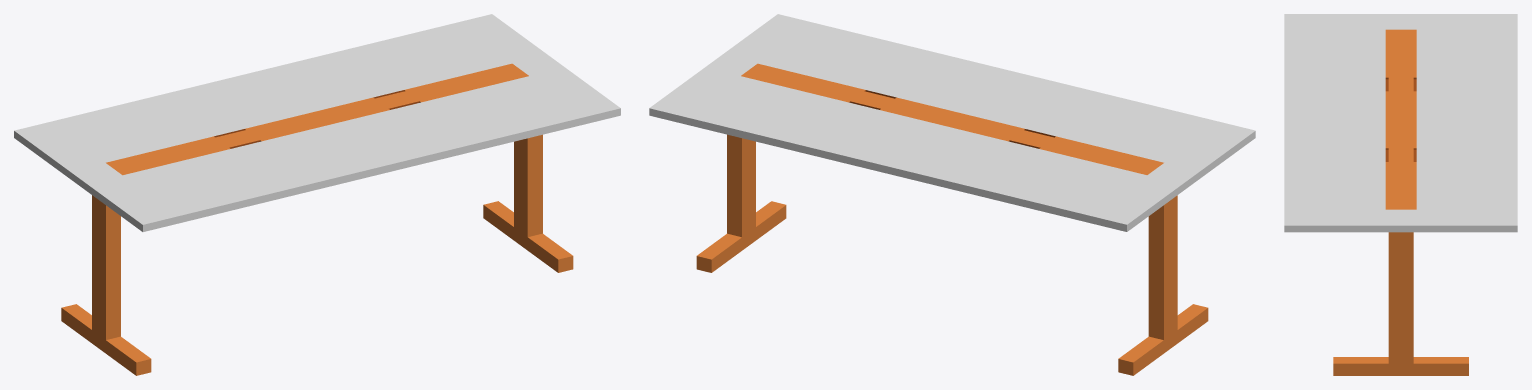
File: TableContact.fbx
The picture shows the model from 3 angles, left to right: view 1: azimuth 30°, elevation 25°; view 2: azimuth 150°, elevation 25°; view 3: azimuth 270°, elevation 25°; orthographic projection. The views are drawn at different scales.
Parts seen in each view (by area): view 1: TabeContact; view 2: TabeContact; view 3: TabeContact.
Boxes of the visible parts, left/top/right/bottom form: TabeContact: left=14, top=14, right=620, bottom=375; TabeContact: left=649, top=14, right=1255, bottom=375; TabeContact: left=1284, top=14, right=1517, bottom=375.
Bounding box in the file's own units: 300 × 105 × 140.
